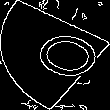O_SE: (9, 23, 101, 87)
